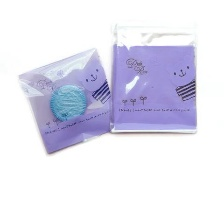snack: (13, 42, 124, 158), (104, 15, 203, 139)
